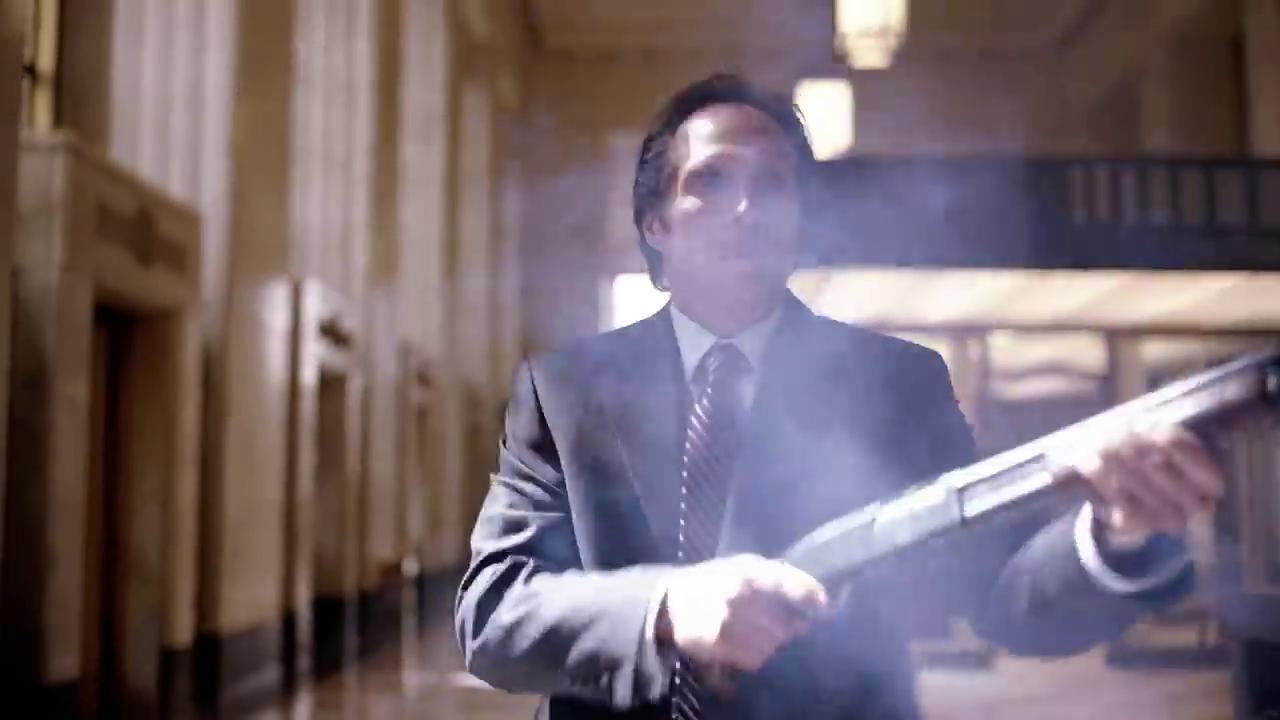gun: (653, 349, 1274, 714)
